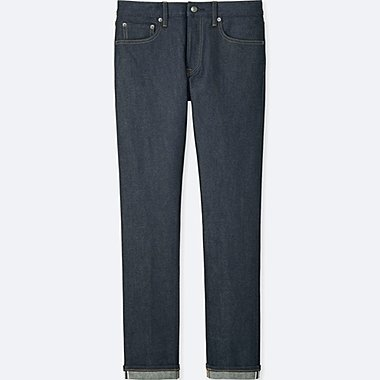Jeans: (100, 1, 277, 380)
